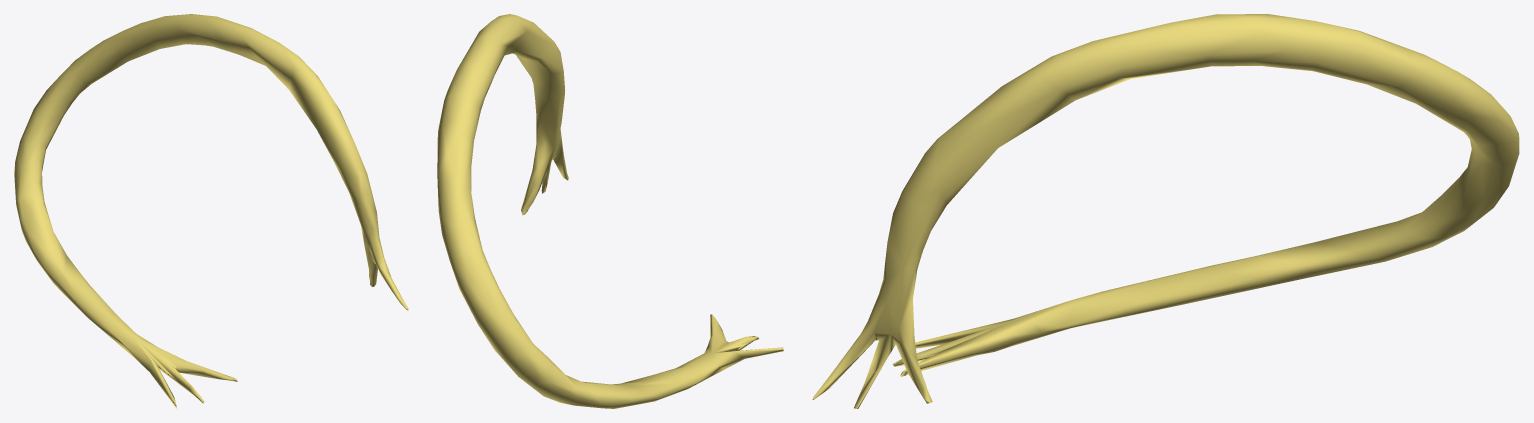
File: stria-terminalis-r.glb
The picture shows the model from 3 angles, left to right: view 1: azimuth 30°, elevation 25°; view 2: azimuth 150°, elevation 25°; view 3: azimuth 270°, elevation 25°; orthographic projection. The views are drawn at different scales.
Parts seen in each view (by area): view 1: Stria terminalis.r; view 2: Stria terminalis.r; view 3: Stria terminalis.r.
Part boxes in pixels (x1,y1,x2,y2): Stria terminalis.r: (14,14,408,408); Stria terminalis.r: (437,14,783,408); Stria terminalis.r: (812,14,1519,408).
Bounding box in the file's own units: 0.0249 × 0.0299 × 0.0423.
